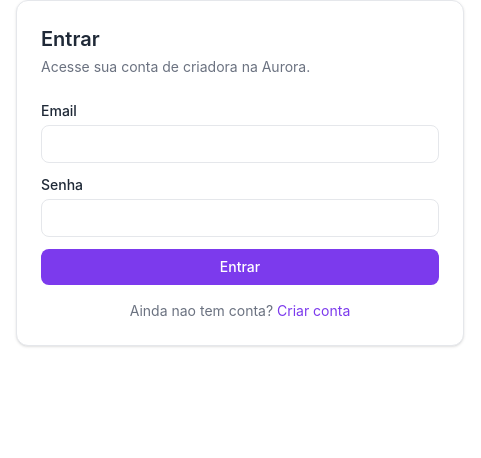
Test: CreatorAccessPage - US-24.1 real creator login (replaces the E3 pilot stub) › shows an explicit verify-your-email prompt for an unverified account
Type "duda@example.com" into the field labelled "Email".
click(240, 144); type("duda@example.com")  # box [41,125,439,163]
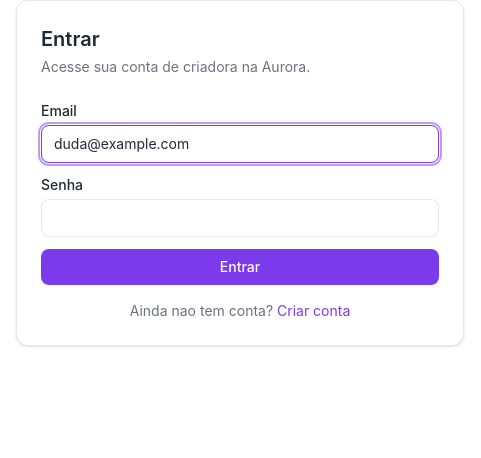
Type "StrongP@ss1" into the password field labelled "Senha".
click(240, 218); type("StrongP@ss1")  # box [41,199,439,237]
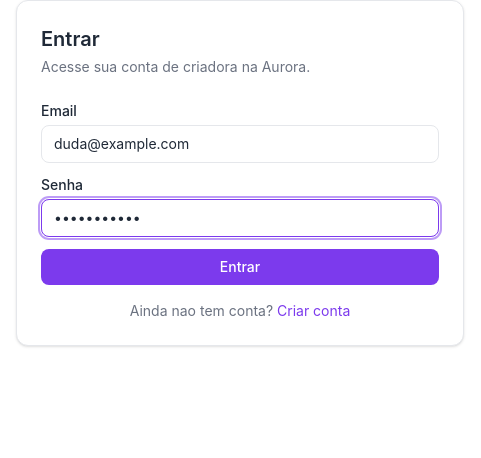
Click the button "Entrar".
click(240, 267)  # box [41,249,439,285]
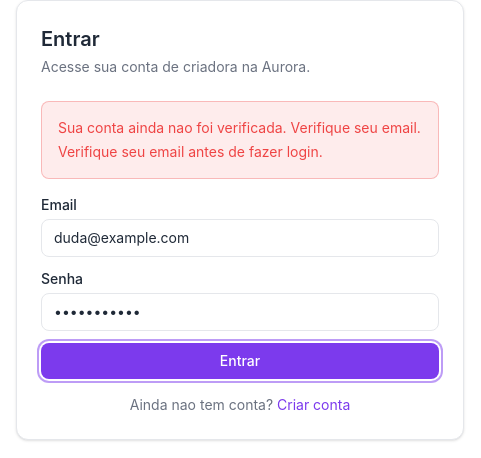
Now the text "Verifique seu email antes de fazer login." is shown, box [58,143,323,160]
